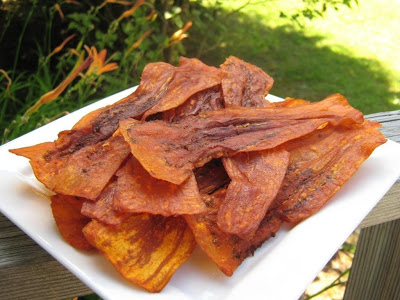bacon: (44, 66, 350, 254)
